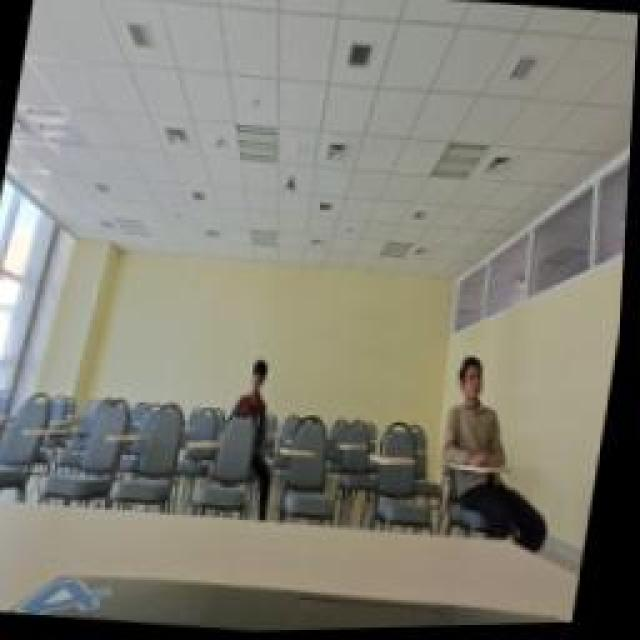study: (442, 352, 528, 478), (232, 358, 278, 432)
